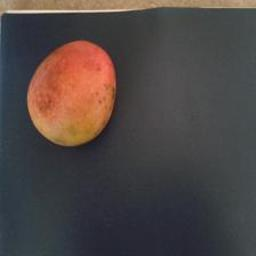Mango Semifresh: (30, 18, 120, 155), (28, 34, 33, 35)
